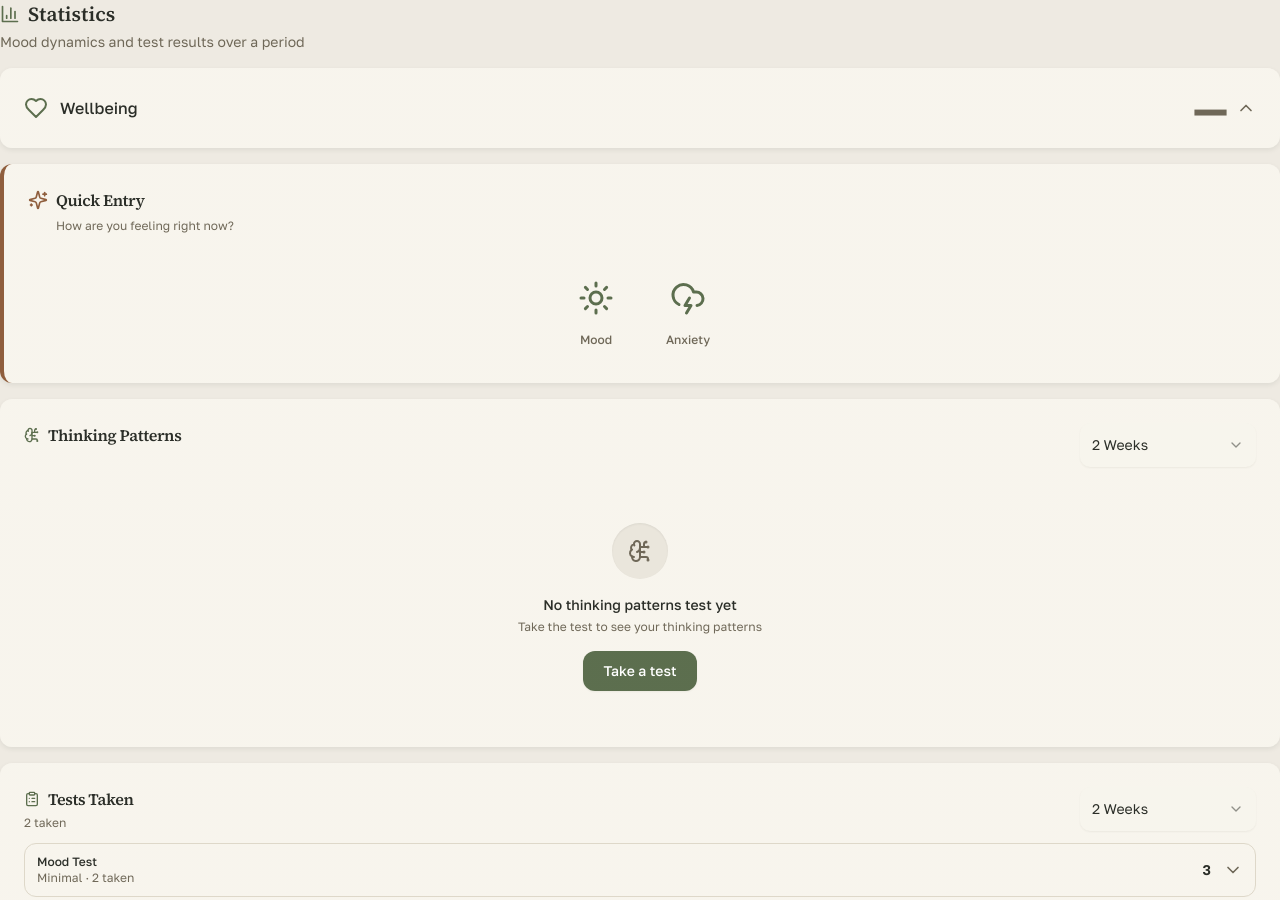
it: Statistics › expands a test to show run history and details
This screenshot has width=1280, height=900.
Click the text "Mood Test" at (67, 862), box [37,854,97,869]
(page scrolled)
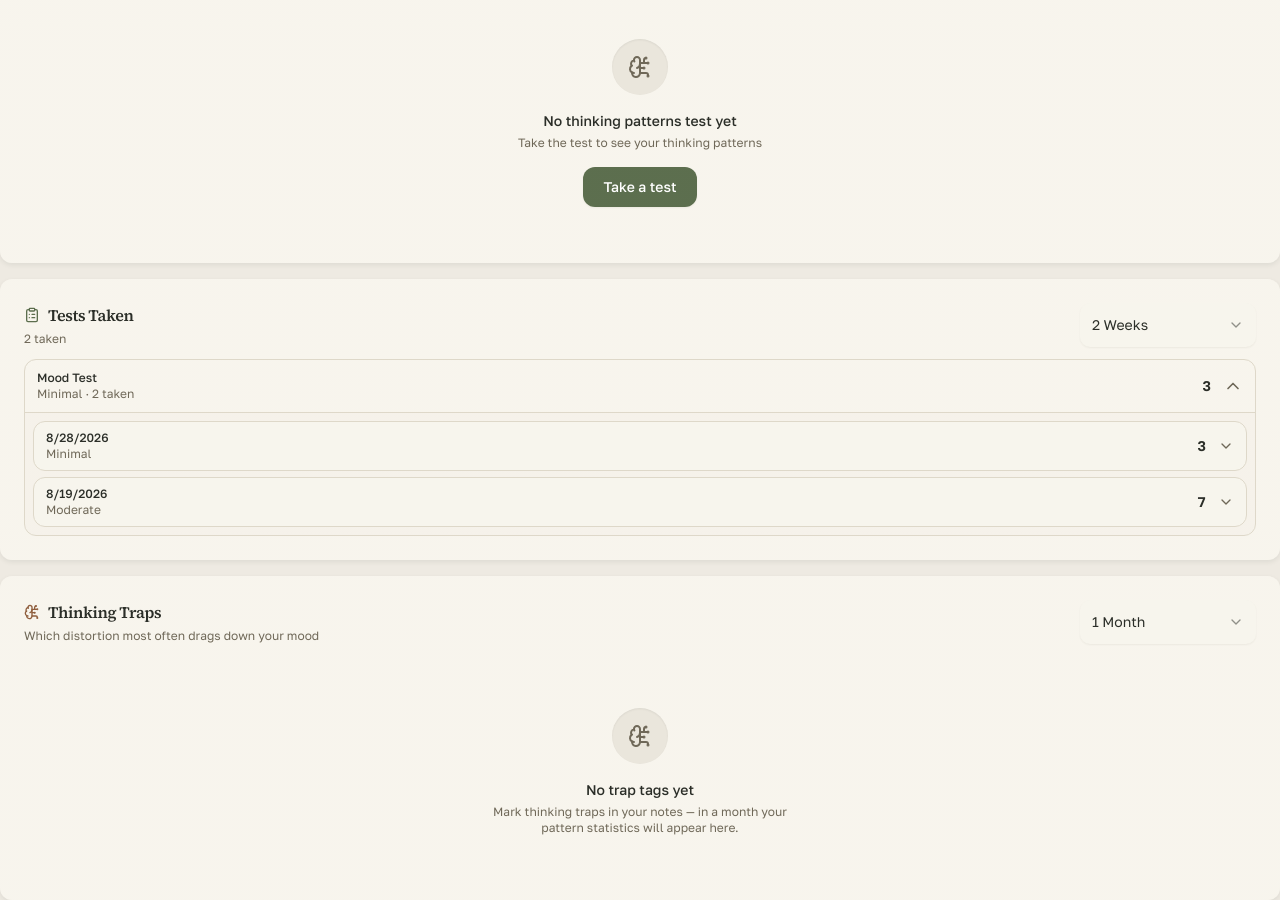
Expected: the text "2 taken" is shown, [24,331,66,346]
Expanding an attempt shows its interpretation and recommendation
Click the text "Moderate" at (73, 510), box [46,502,101,517]
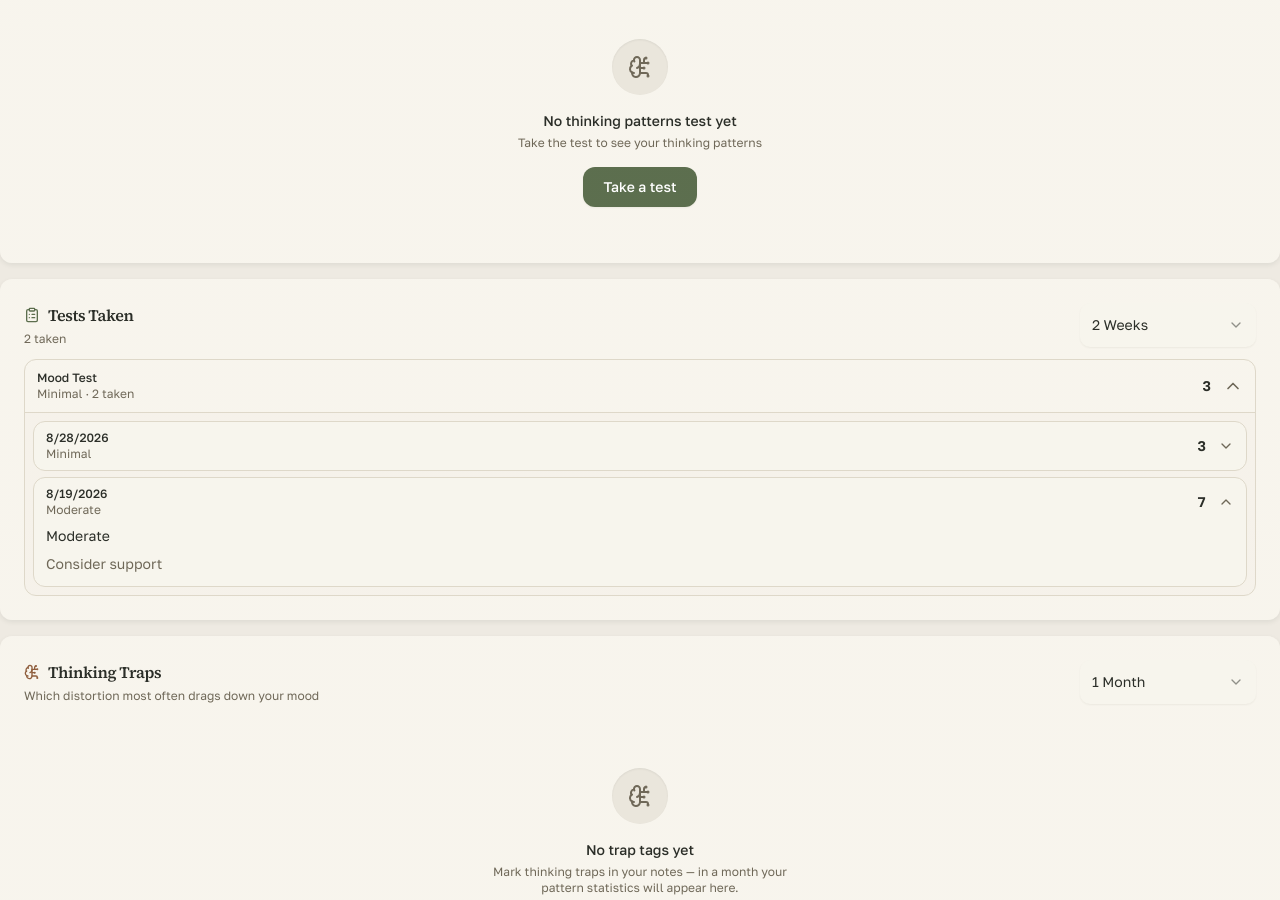
Result: the text "Consider support" is shown at [46,555,162,572]
